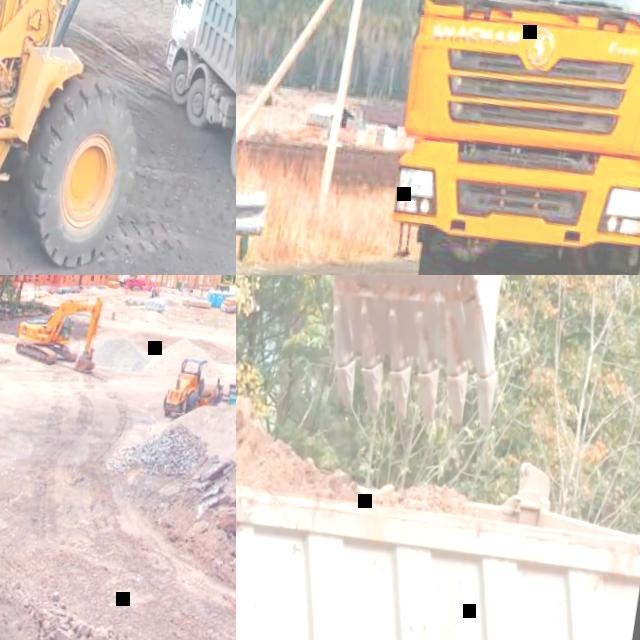machinery: (236, 335, 640, 640), (326, 0, 640, 275), (0, 0, 236, 275), (285, 275, 557, 444), (143, 0, 236, 235), (14, 284, 106, 378), (161, 354, 233, 430)
